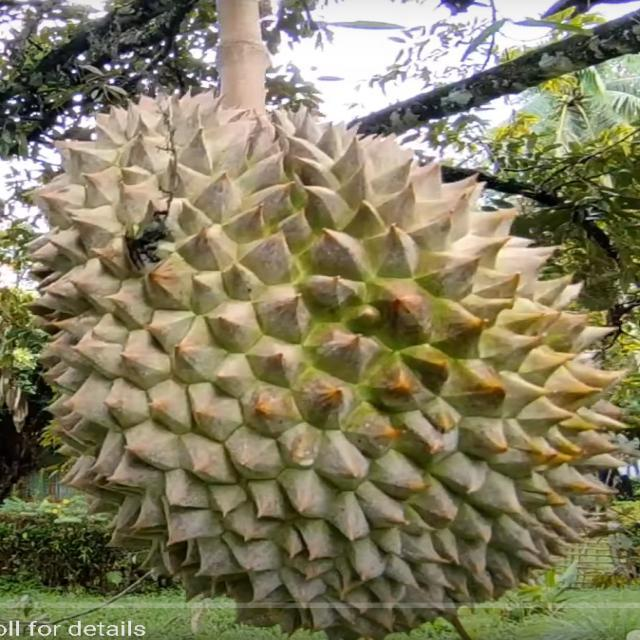immature: (23, 86, 624, 640)
